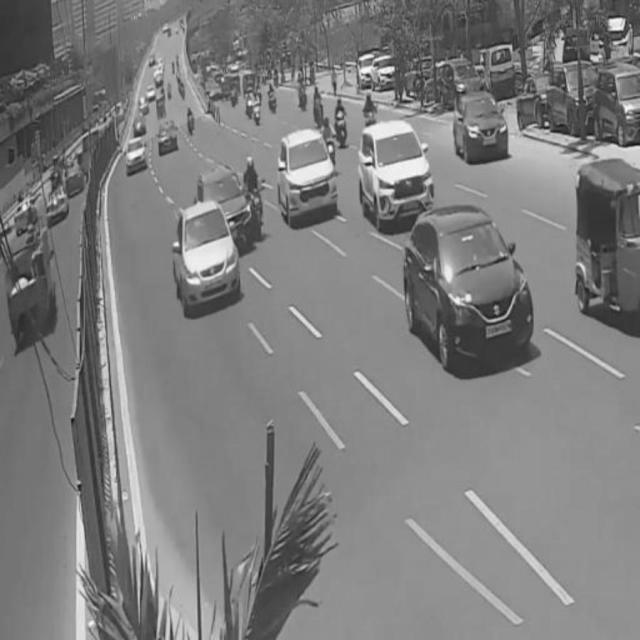vehicle: (403, 206, 531, 356), (573, 162, 640, 316), (356, 119, 432, 230), (177, 202, 241, 314), (275, 133, 339, 223), (192, 165, 250, 249), (454, 92, 509, 164), (243, 155, 263, 246), (124, 132, 149, 176), (158, 114, 178, 158)
